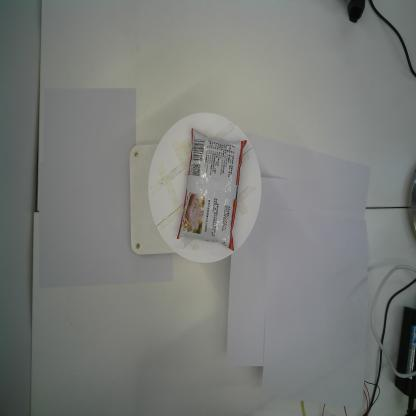Seasoner: (176, 126, 248, 255)
